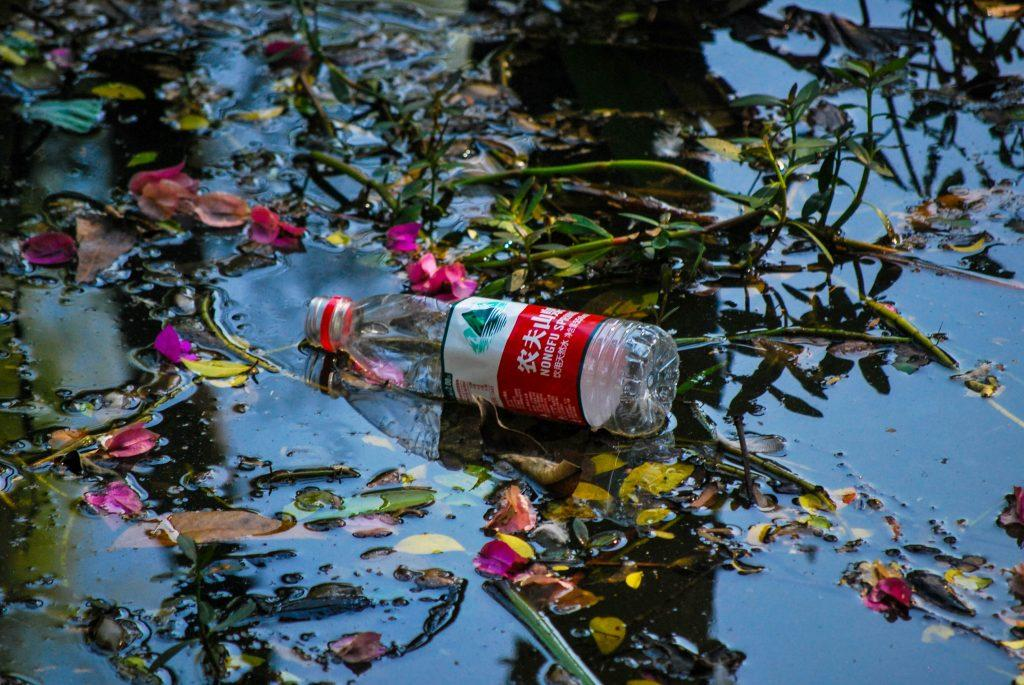Plastic: (292, 257, 712, 450)
